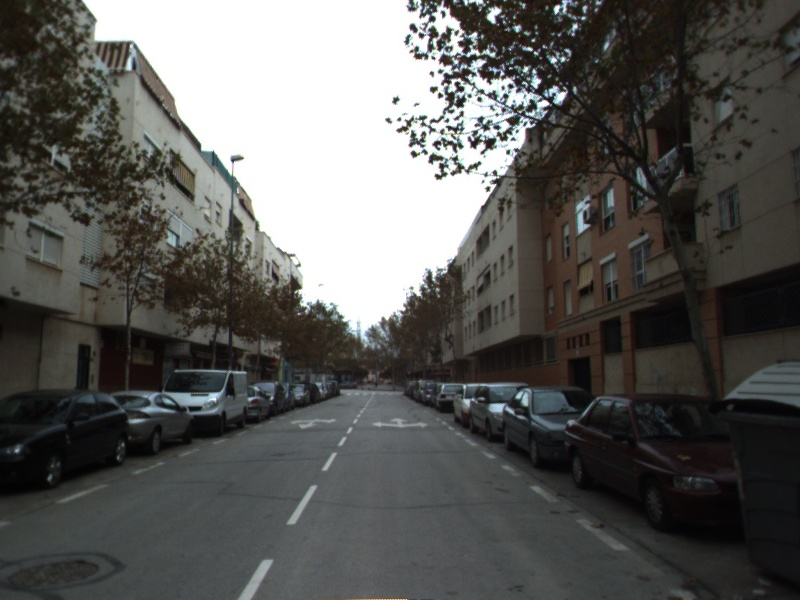STRAIGHT_LEFT_RIGHT: (370, 415, 430, 430)
